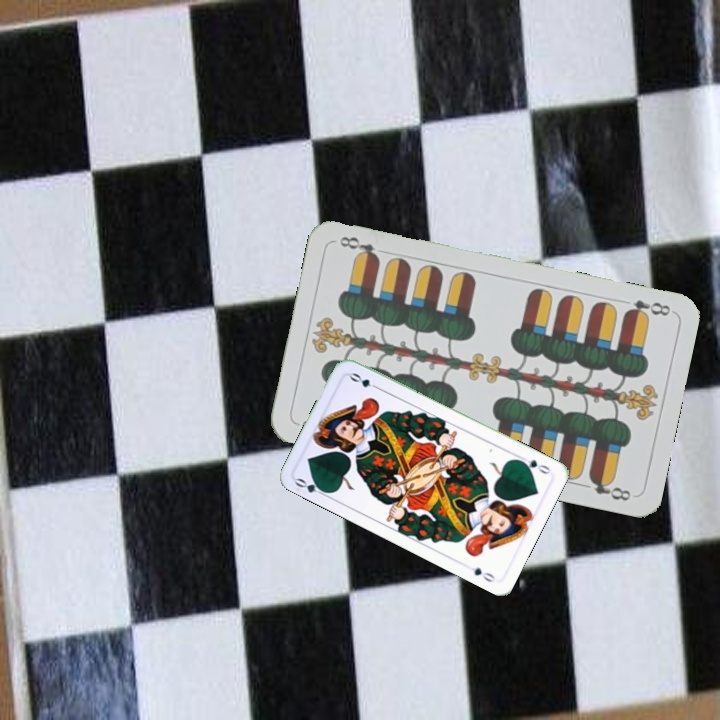E8: (621, 296, 673, 321)
GO: (291, 474, 331, 500), (514, 452, 553, 477)
